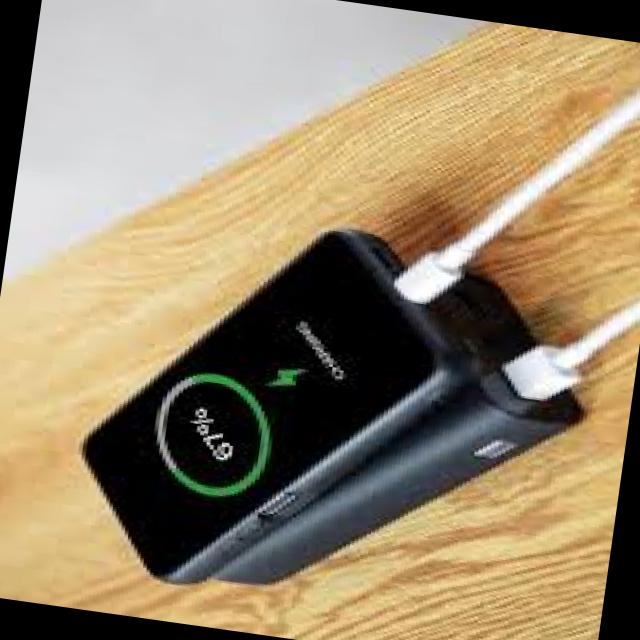portable-charger: (212, 237, 596, 622)
